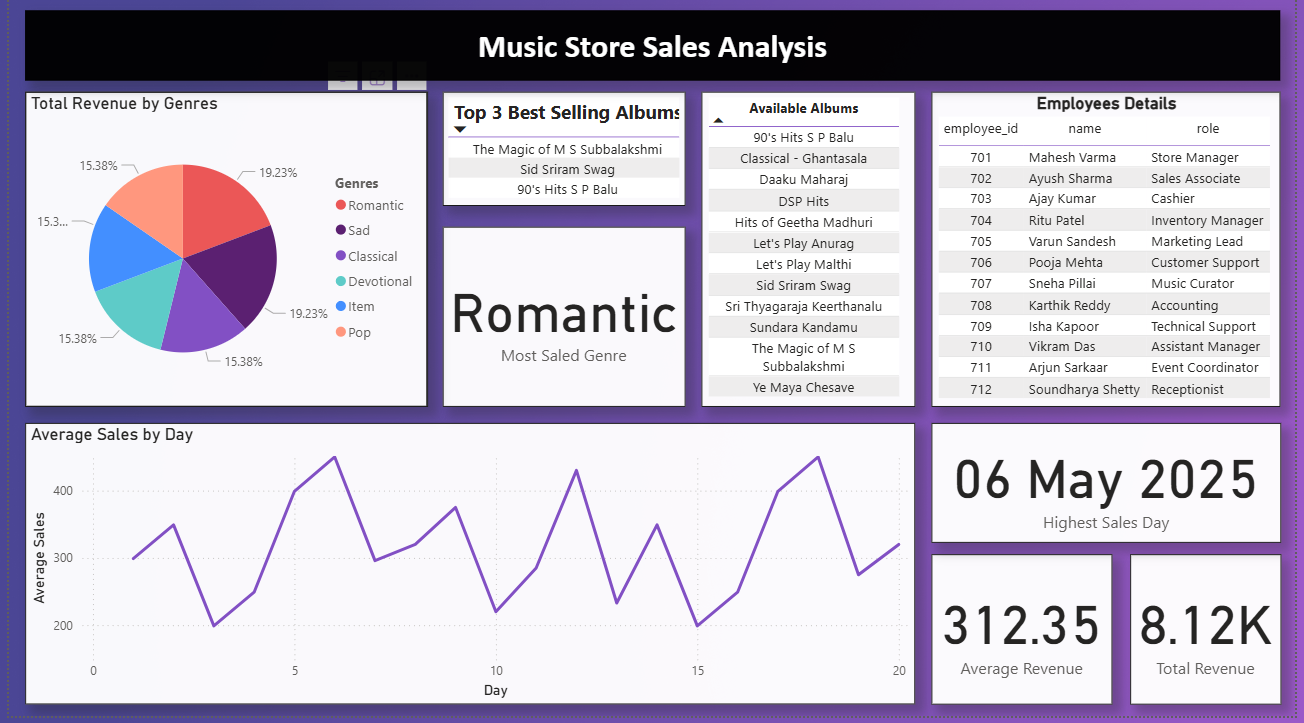

The page's visual inventory and layout, read from the dashboard file:
{"tool":"powerbi","page":{"name":"Page 1","canvas":[1280,720],"ordinal":0},"visuals":[{"type":"lineChart","fields":{"Category":["musicstore payments.payment_date.Variation.Date Hierarchy.Day"],"Y":["musicstore payments.amount"]},"box":[16.2,427.9,885.7,279.9],"z":0},{"type":"card","fields":{"Values":["Query1.Most_saled_genres"]},"box":[431.7,232.6,241.3,179.1],"z":1000},{"type":"pivotTable","fields":{"Rows":["Query3.top3_bestselling_albums"]},"box":[431.7,98.3,241.3,113.2],"z":2000},{"type":"card","fields":{"Values":["Query5.avg_revenue"]},"box":[918,558.5,180.4,149.3],"z":3000},{"type":"card","fields":{"Values":["Query5.Total_revenue"]},"box":[1115.8,558.5,150.5,149.3],"z":4000},{"type":"card","fields":{"Values":["Query6.highest_sales_day"]},"box":[918,427.9,348.3,119.4],"z":5000},{"type":"tableEx","title":"Employees Details","fields":{"Values":["musicstore employees.employee_id","musicstore employees.name","musicstore employees.role"]},"box":[918,98.3,347.1,313.5],"z":6000},{"type":"pieChart","fields":{"Category":["musicstore genres.name"],"Y":["musicstore payments.amount"]},"box":[16.2,98.3,400.6,313.5],"z":7000},{"type":"textbox","box":[16.2,17.4,1248.9,69.7],"z":8000},{"type":"tableEx","fields":{"Values":["musicstore albums.title"]},"box":[689.2,98.3,212.7,313.5],"z":9000}]}

Visuals, with their boxes in screenshot pixels (x1, y1, x2, y2), scaled from the page's 1280x720 canvas onto the 1304x723 screenshot:
lineChart - musicstore payments.payment_date.Variation.Date Hierarchy.Day x musicstore payments.amount: 17, 430, 919, 711
card - Query1.Most_saled_genres: 440, 234, 686, 413
pivotTable - Query3.top3_bestselling_albums: 440, 99, 686, 212
card - Query5.avg_revenue: 935, 561, 1119, 711
card - Query5.Total_revenue: 1137, 561, 1290, 711
card - Query6.highest_sales_day: 935, 430, 1290, 550
"Employees Details" tableEx: 935, 99, 1289, 414
pieChart - musicstore genres.name x musicstore payments.amount: 17, 99, 425, 414
textbox: 17, 17, 1289, 87
tableEx - musicstore albums.title: 702, 99, 919, 414
